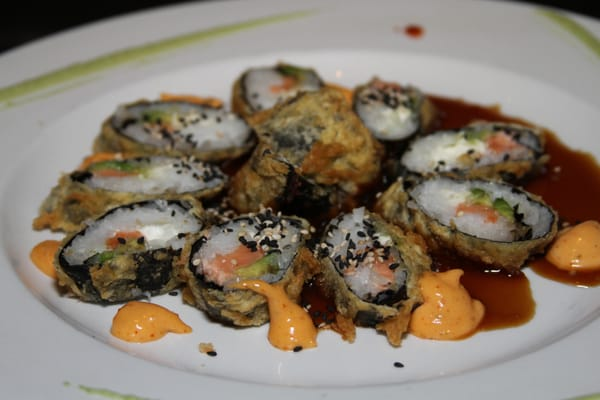pizza: (244, 278, 317, 352)
